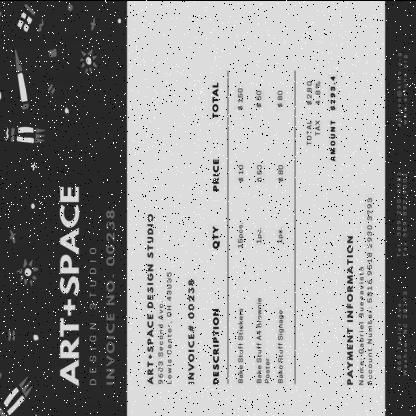Paragraph: (54, 181, 118, 391), (342, 193, 376, 389), (142, 210, 176, 390), (302, 68, 340, 168), (392, 166, 410, 262), (183, 276, 198, 386), (393, 287, 411, 378), (394, 48, 411, 128)
Table: (207, 69, 295, 386)
